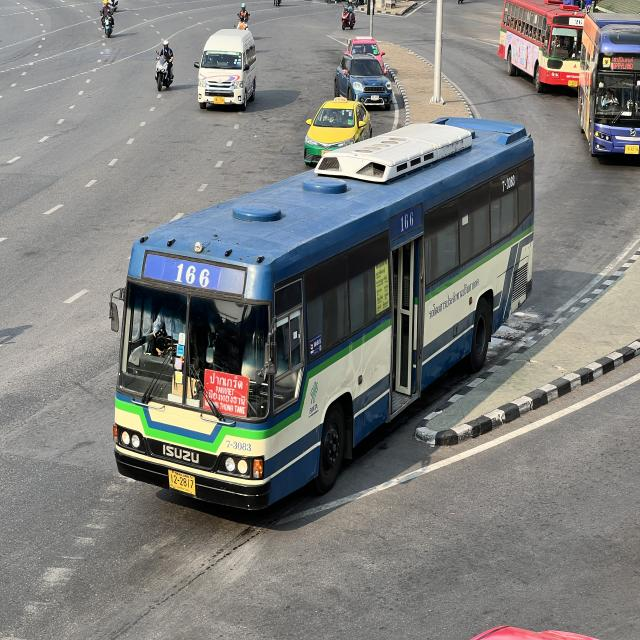BMTA-bus: (111, 117, 537, 517), (497, 0, 586, 96)
Bus-Line-Number: (171, 260, 212, 291), (573, 17, 583, 26)
Destination-Sign-Extra-Bus: (202, 368, 250, 421)
Destination-Sign-Normal: (608, 56, 634, 70)
TSB-Bus: (577, 12, 640, 160)
